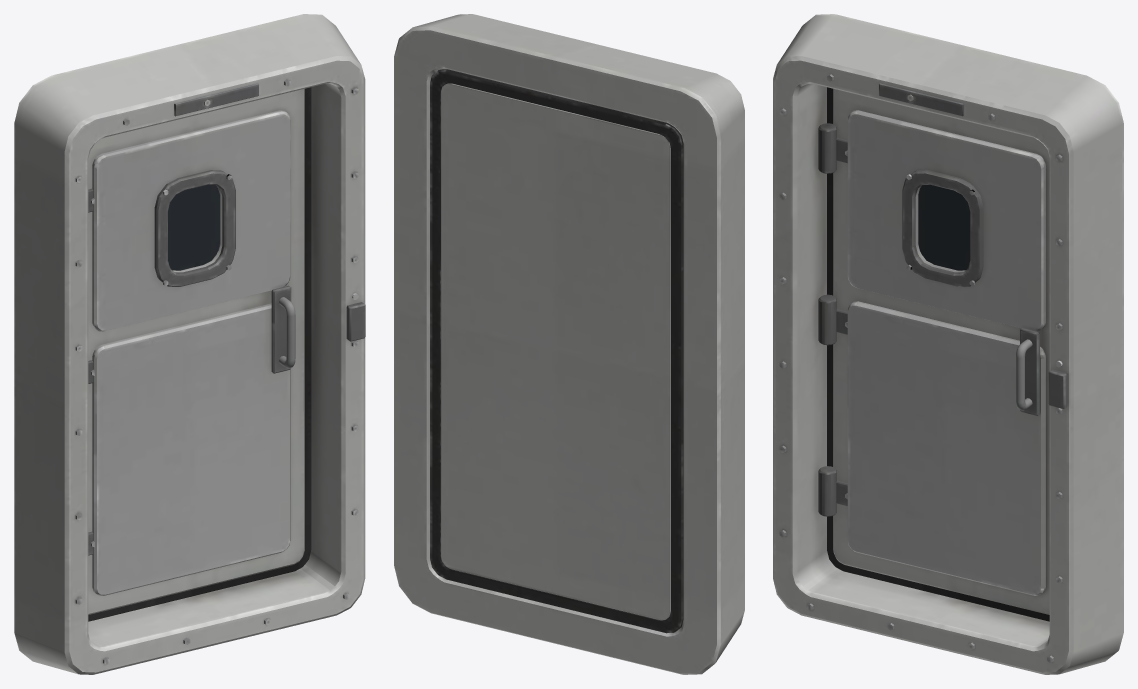
Rendered from door.glb.
The picture shows the model from 3 angles, left to right: view 1: azimuth 30°, elevation 25°; view 2: azimuth 150°, elevation 25°; view 3: azimuth 330°, elevation 25°; orthographic projection.
Parts seen in each view (by area): view 1: door; view 2: door; view 3: door.
Part boxes in pixels (x1,y1,x2,y2): door: (14, 14, 365, 674); door: (394, 14, 744, 674); door: (773, 14, 1123, 674).
Bounding box in the file's own units: 1.4 × 2.4 × 0.3269.
Materials: 1 (1 with a texture image).
